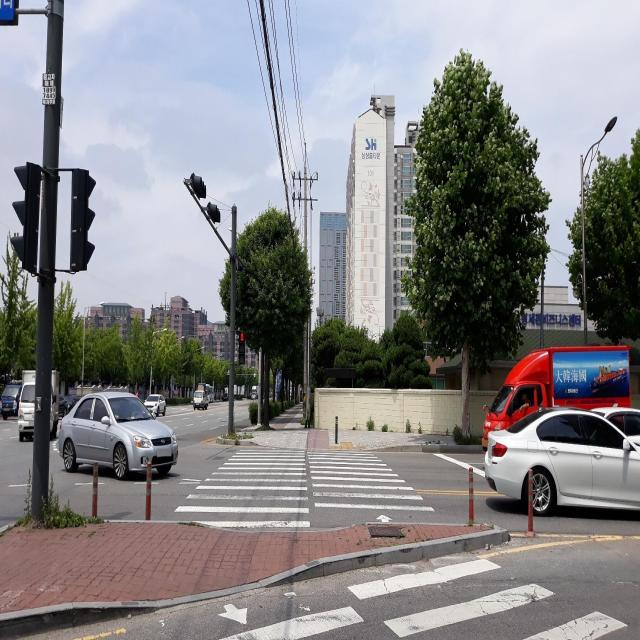빨간불: (237, 332, 247, 367)
횡단보도: (217, 554, 630, 640), (172, 435, 428, 529)
